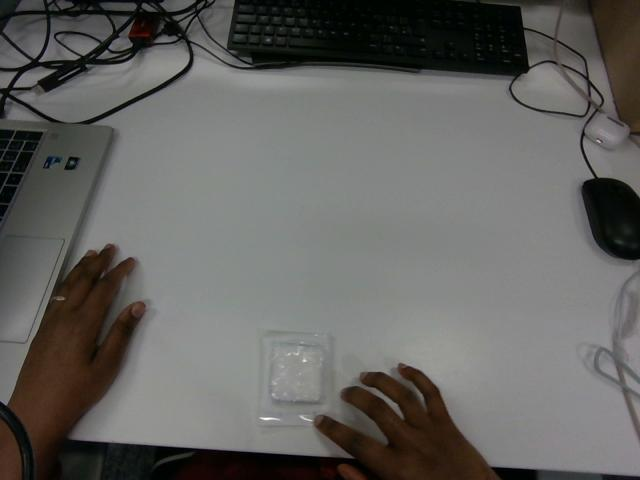gauze: (259, 331, 331, 425)
